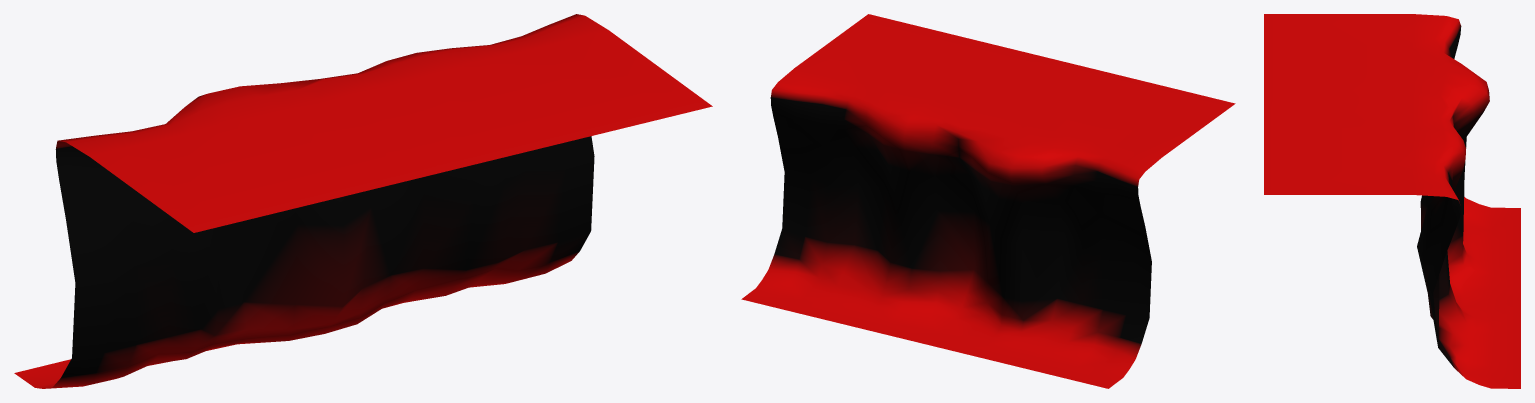
The model's file is GroundCliff01C 1M Background.fbx.
3 views of the same model, side by side, from view 1: azimuth 30°, elevation 25°; view 2: azimuth 150°, elevation 25°; view 3: azimuth 270°, elevation 25° (orthographic). The views are drawn at different scales.
Visible parts, largest first — view 1: GroundCliff01C 1M Background; view 2: GroundCliff01C 1M Background; view 3: GroundCliff01C 1M Background.
Boxes of the visible parts, box(x1,y1,x2,y2) form: GroundCliff01C 1M Background: box(14, 14, 712, 388); GroundCliff01C 1M Background: box(741, 14, 1235, 388); GroundCliff01C 1M Background: box(1264, 14, 1520, 388).
Size of the model in its own units: 2 by 1 by 1.2.
